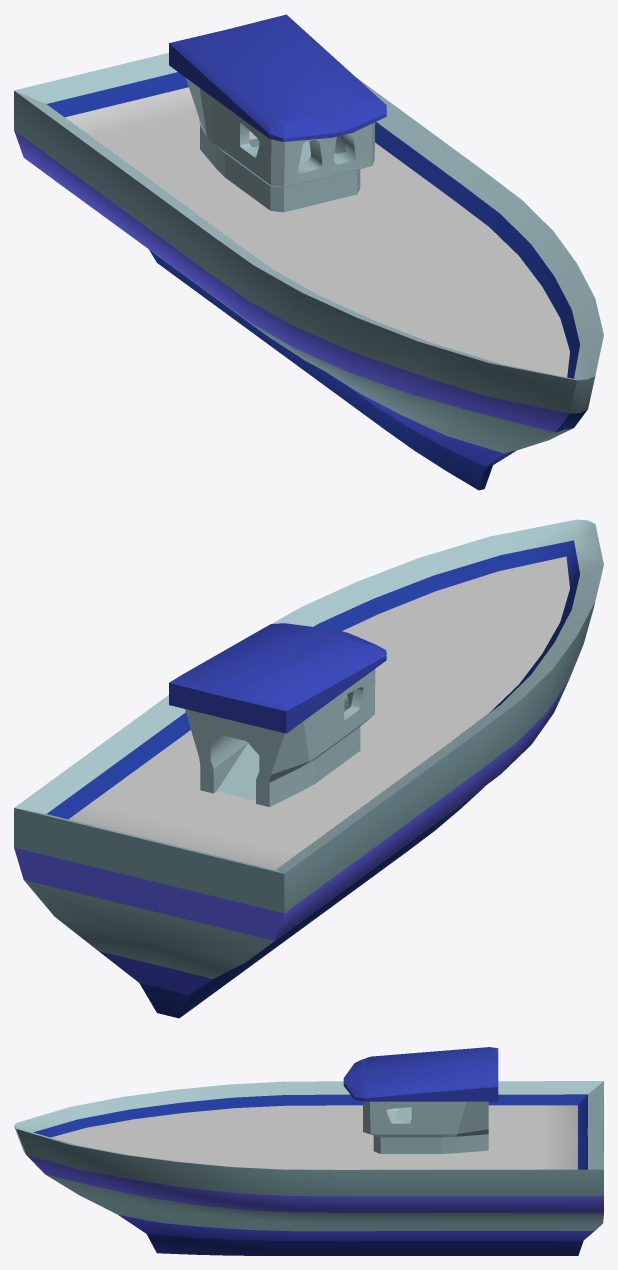
File: ShipWreck.fbx
3 renders of one model, top to bottom at view 1: azimuth 30°, elevation 25°; view 2: azimuth 150°, elevation 25°; view 3: azimuth 270°, elevation 25°, orthographic. The views are drawn at different scales.
Visible parts, largest first — view 1: ShipWreck, ShipWreckCabin; view 2: ShipWreck, ShipWreckCabin; view 3: ShipWreck, ShipWreckCabin.
Part boxes in pixels (x1=…): ShipWreck: x1=14, y1=53, x2=603, y2=490; ShipWreckCabin: x1=169, y1=14, x2=386, y2=212; ShipWreck: x1=14, y1=519, x2=603, y2=1018; ShipWreckCabin: x1=169, y1=623, x2=386, y2=807; ShipWreck: x1=14, y1=1081, x2=603, y2=1255; ShipWreckCabin: x1=343, y1=1047, x2=498, y2=1153.
Bounding box in the file's own units: 2 × 5.62 × 1.98.
